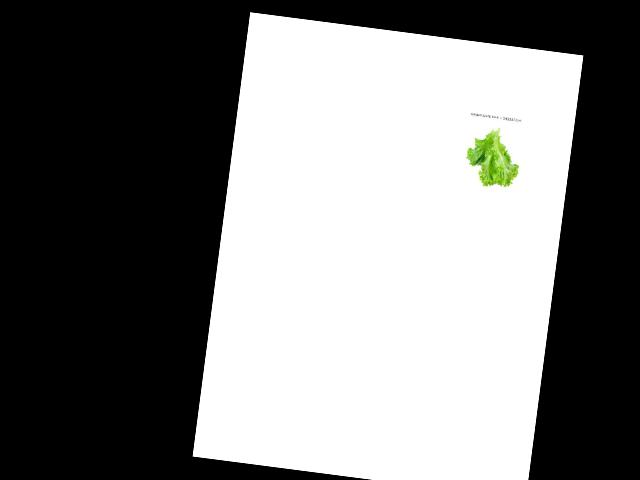lettuce: (461, 120, 523, 191)
